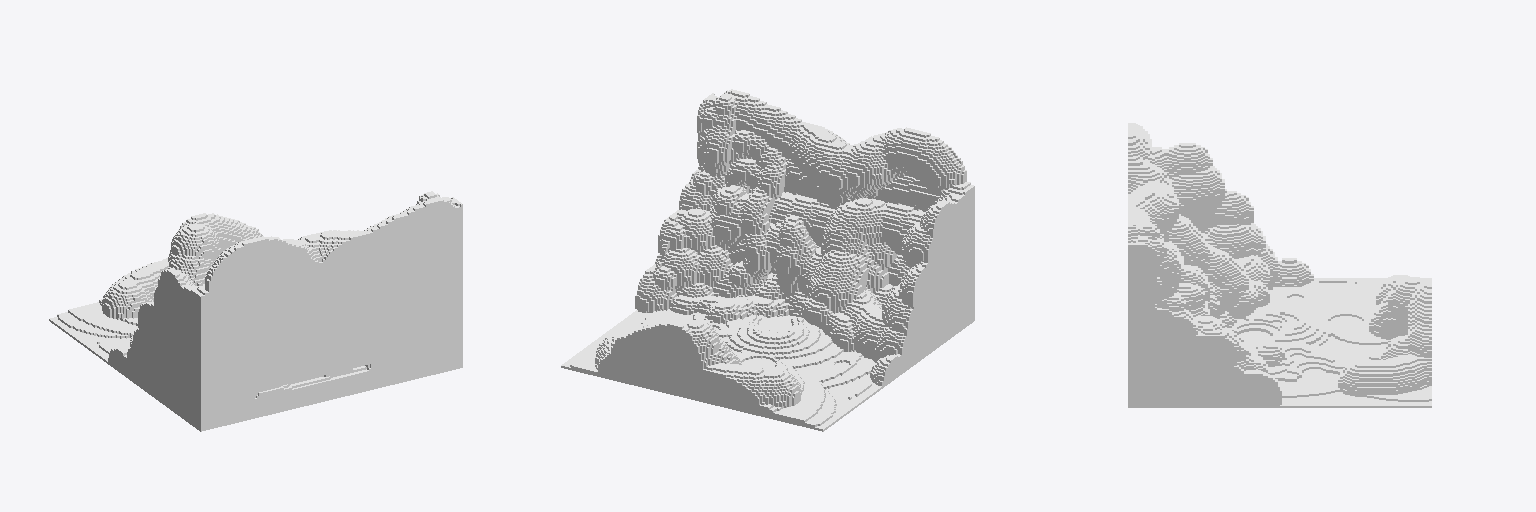
Rendered from Ext_LunarBorder6.obj.
3 views of the same model, side by side, from view 1: azimuth 30°, elevation 25°; view 2: azimuth 150°, elevation 25°; view 3: azimuth 270°, elevation 25° (orthographic).
Size of the model in its own units: 126 by 81 by 126.